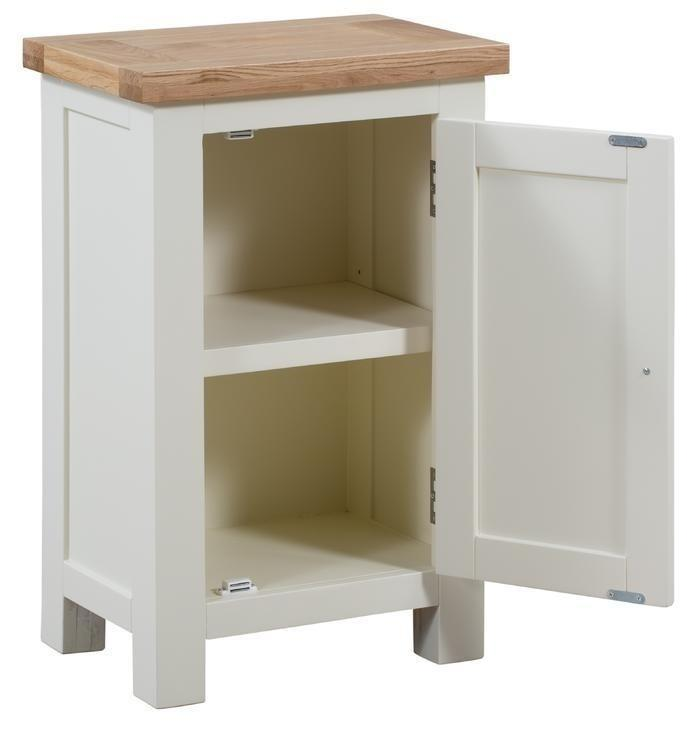cabinet_door: (434, 124, 670, 589)
